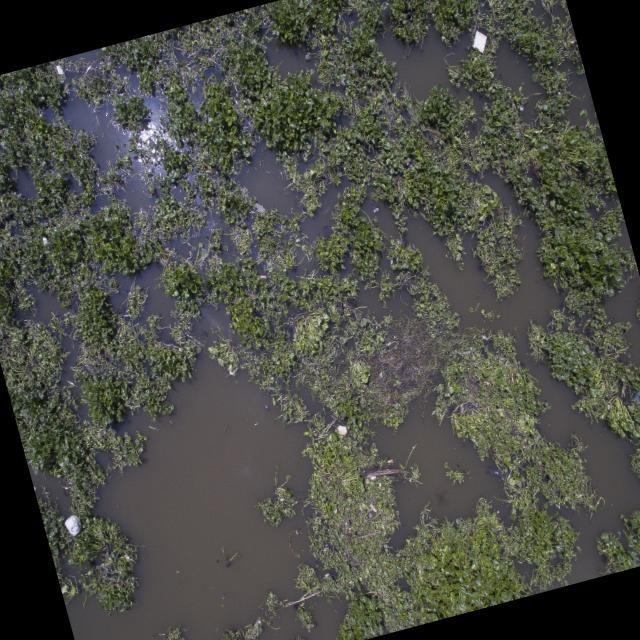Plastic: (467, 24, 492, 57), (62, 511, 82, 535), (336, 424, 348, 436), (54, 62, 63, 76)
